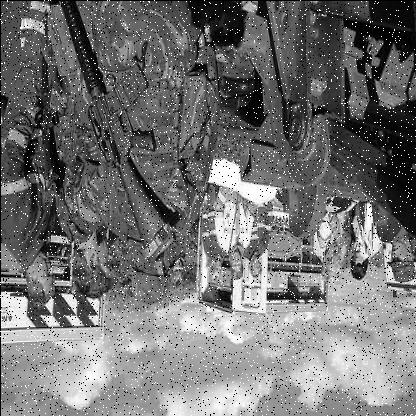rifle: (47, 1, 177, 257)
